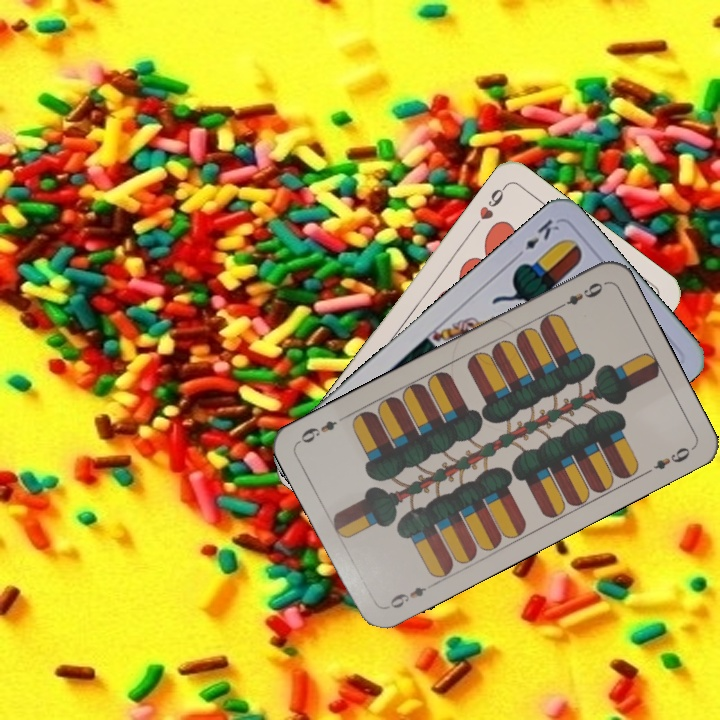E9: (553, 278, 608, 312), (385, 582, 429, 612)
EK: (510, 215, 562, 262)
H9: (468, 181, 509, 232)
